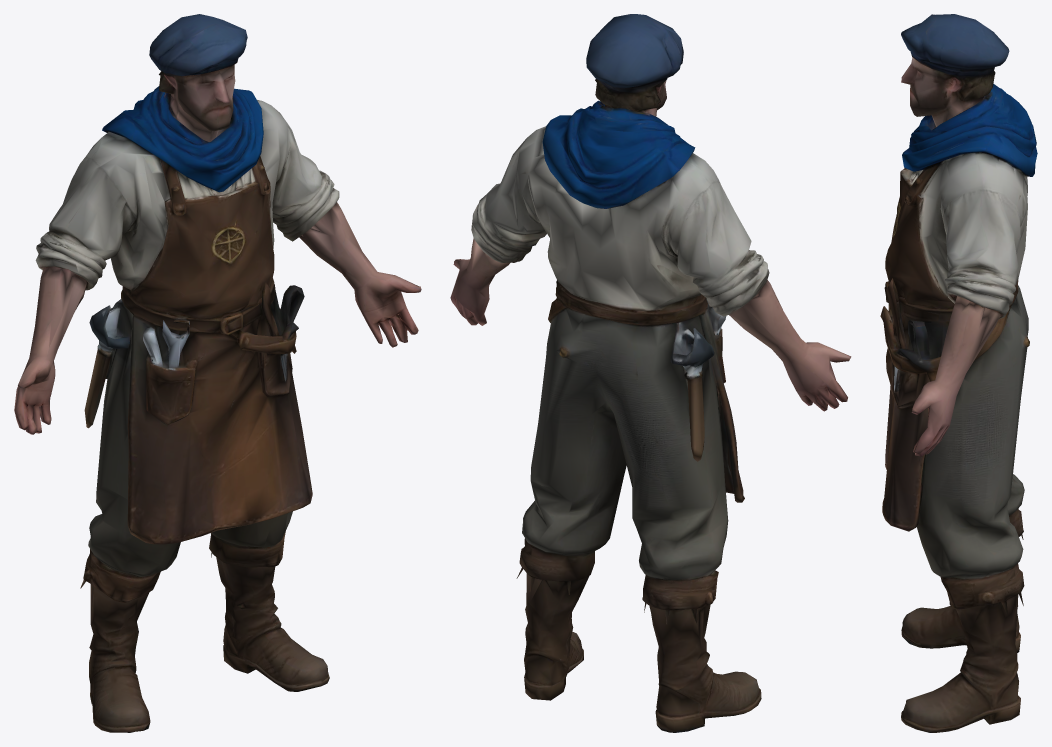
File: hum_worker.glb
3 views of the same model, side by side, from view 1: azimuth 30°, elevation 25°; view 2: azimuth 150°, elevation 25°; view 3: azimuth 270°, elevation 25° (orthographic). The views are drawn at different scales.
Visible parts, largest first — view 1: node_0; view 2: node_0; view 3: node_0.
Part boxes in pixels (box(x1,y1,x2,y2)): node_0: box(14, 14, 421, 732); node_0: box(450, 14, 851, 732); node_0: box(880, 14, 1037, 732).
Size of the model in its own units: 0.706 by 1.14 by 0.2438.
Materials: 1 (1 with a texture image).
